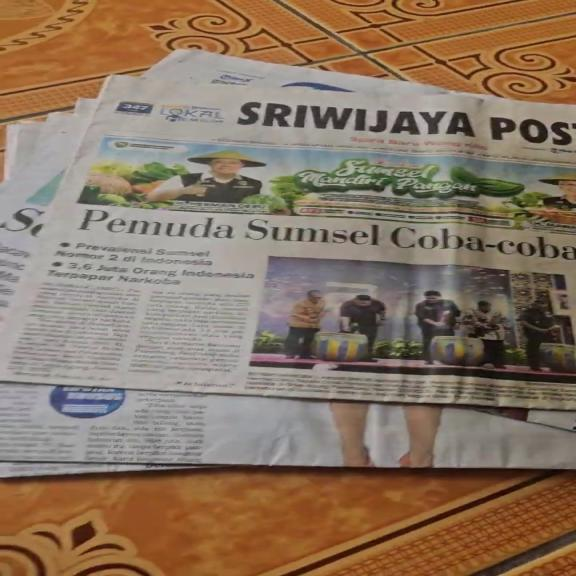Kertas: (5, 50, 569, 464)
